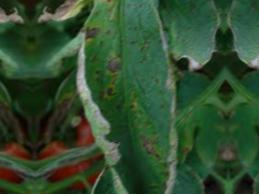Tomato leaf bacterial spot: (68, 0, 198, 194)
